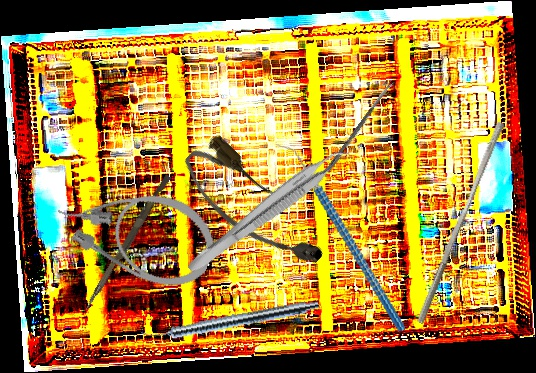Cannula: (46, 158, 227, 302), (174, 129, 332, 288)
Chopper: (275, 125, 406, 349)
Handpiece: (140, 294, 320, 347)
Pusher: (416, 118, 506, 328), (83, 172, 172, 314)
Surgical Spoon: (325, 79, 395, 174)
Tissue Forceps: (184, 139, 355, 284)
